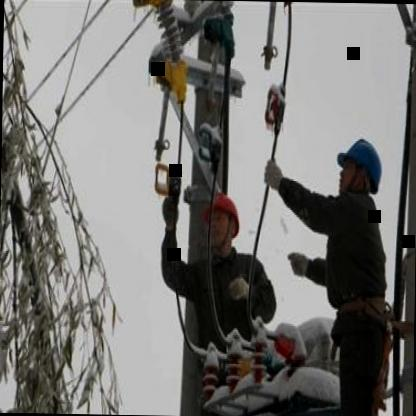helmet: (334, 128, 382, 200), (204, 189, 244, 251)
